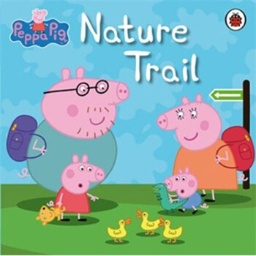Peppa: (47, 153, 104, 226)
